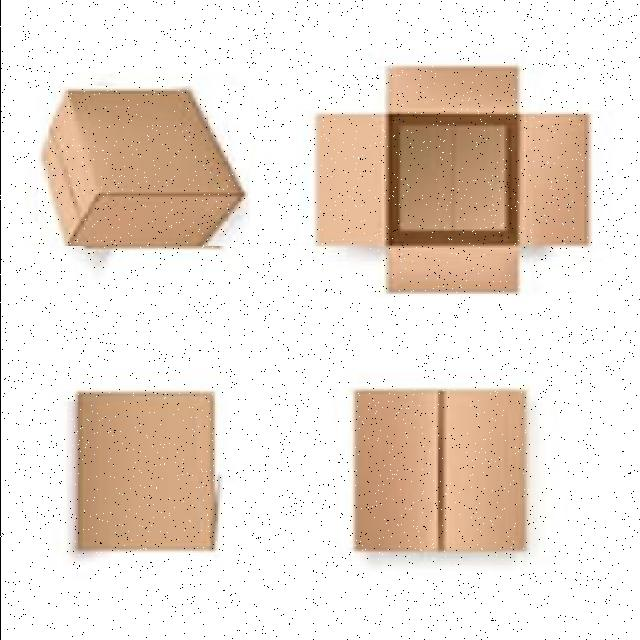defect: (310, 60, 592, 298), (350, 382, 532, 558)
normal: (37, 86, 249, 246), (66, 386, 228, 559)
